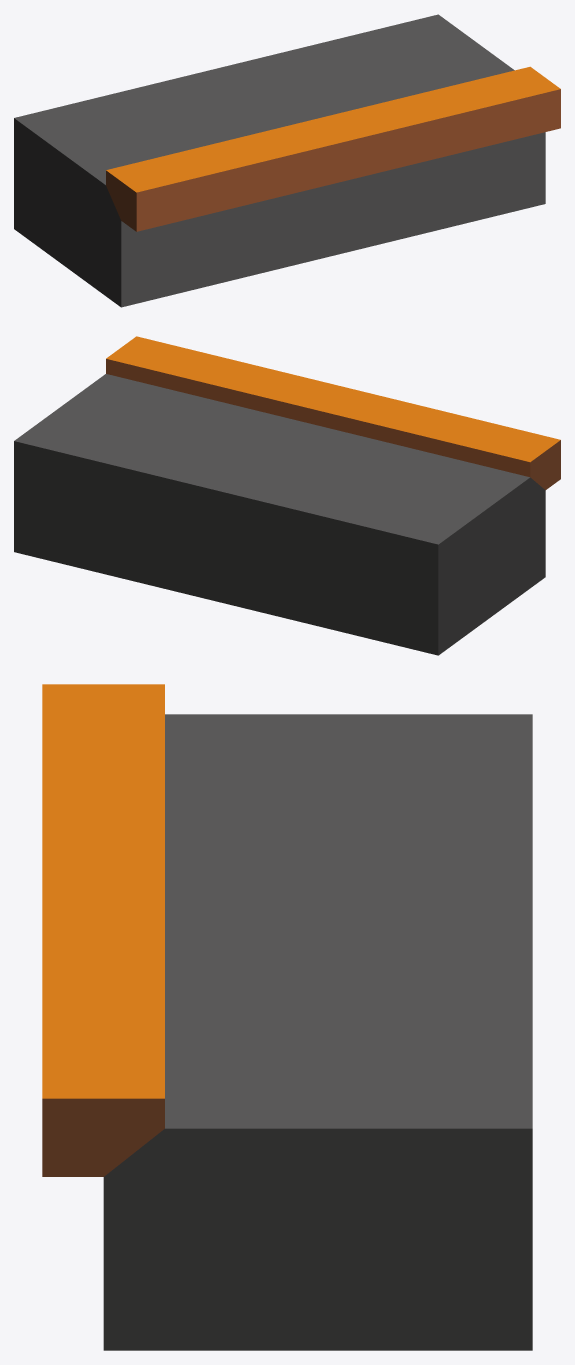
File: COSMIC_F_Perimeter_2U.fbx
3 views of the same model, one above another, from view 1: azimuth 30°, elevation 25°; view 2: azimuth 150°, elevation 25°; view 3: azimuth 270°, elevation 25° (orthographic). The views are drawn at different scales.
Parts seen in each view (by area): view 1: COSMIC_F_Perimeter_2U; view 2: COSMIC_F_Perimeter_2U; view 3: COSMIC_F_Perimeter_2U.
Boxes of the visible parts, x1,y1,x2,y2 form: COSMIC_F_Perimeter_2U: (14, 14, 560, 307); COSMIC_F_Perimeter_2U: (14, 336, 560, 655); COSMIC_F_Perimeter_2U: (42, 684, 532, 1350).
Size of the model in its own units: 1 by 0.2839 by 0.5.
